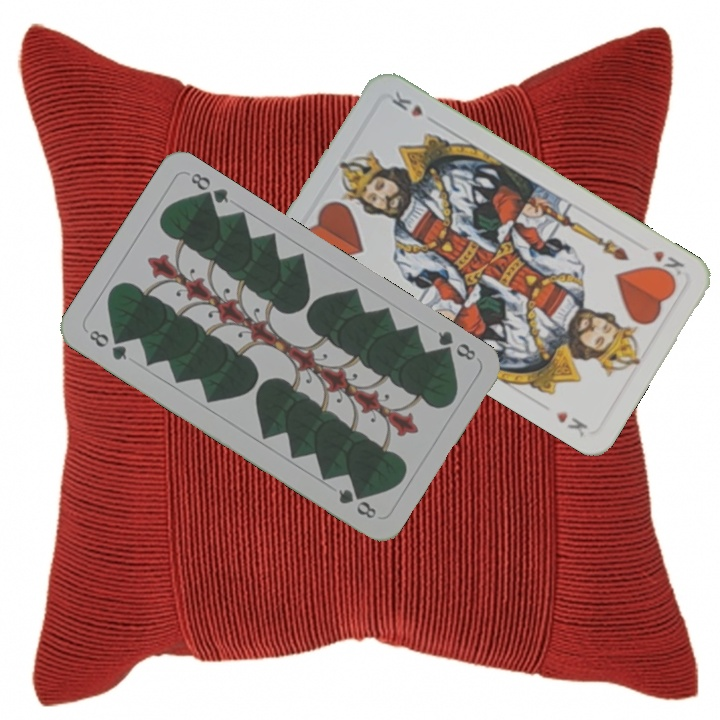G8: (431, 326, 479, 363), (84, 326, 130, 363)
HK: (647, 246, 687, 282)
